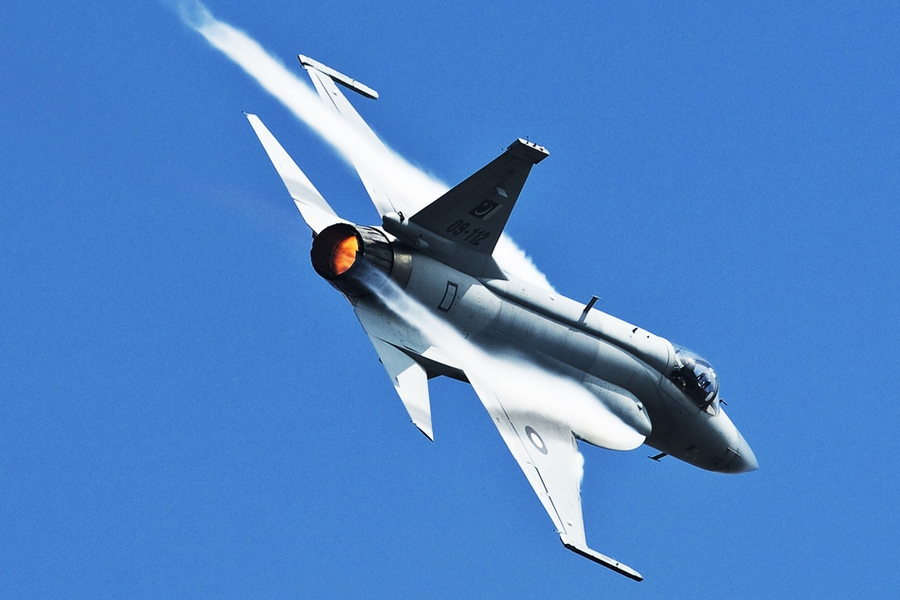airplane: (243, 50, 761, 578)
